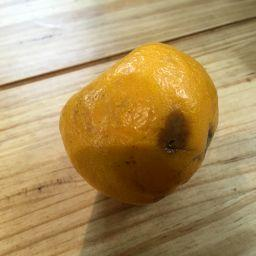Unripe: (57, 43, 217, 207)
